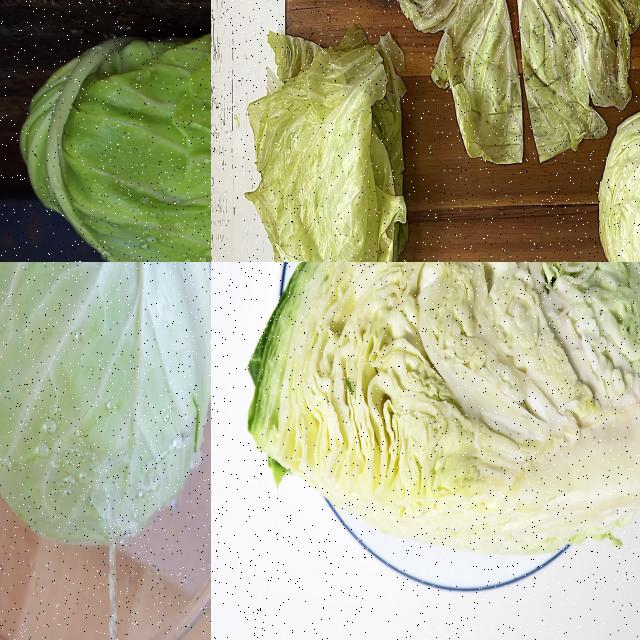cabbage: (244, 262, 639, 559), (0, 262, 210, 553), (14, 27, 210, 261)
